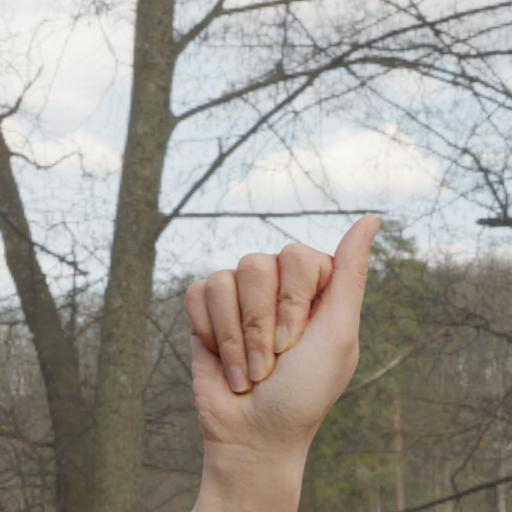A: (182, 213, 388, 442)
